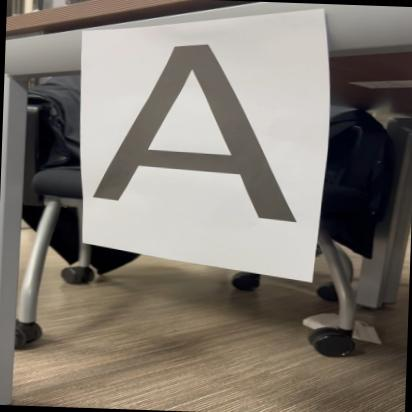seat: (86, 37, 310, 228)
